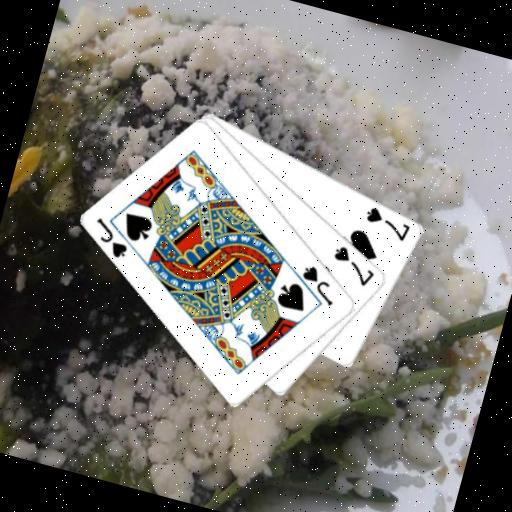7S: (325, 241, 382, 290), (358, 202, 415, 244)
JS: (85, 212, 136, 262), (293, 260, 343, 308)
